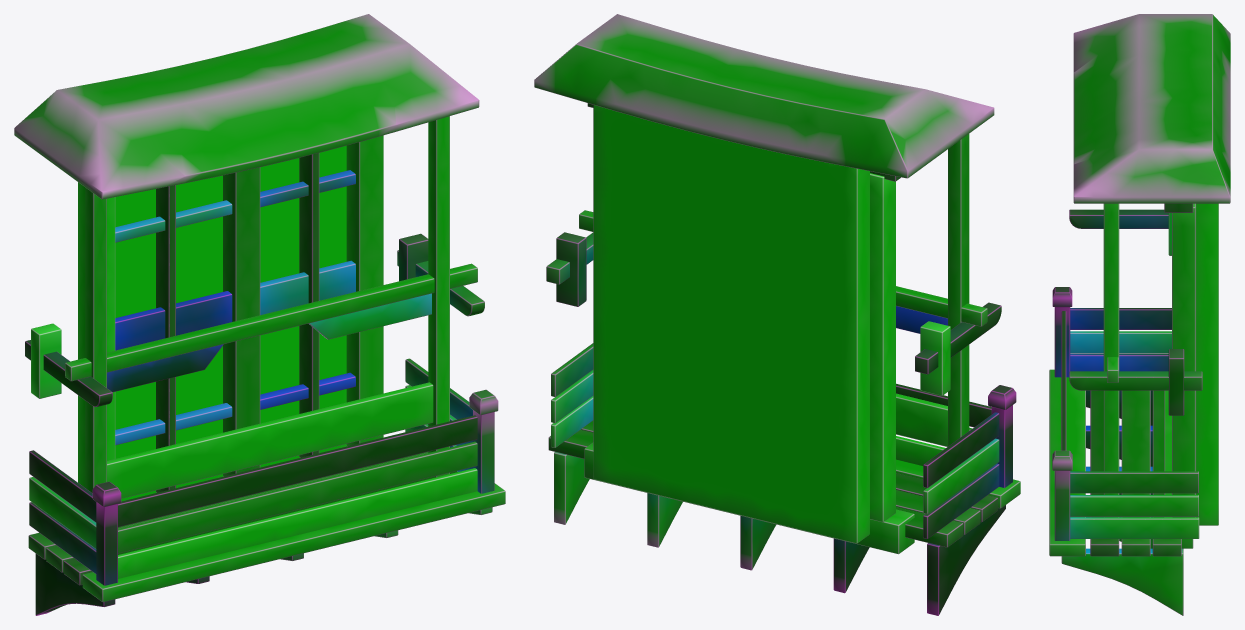
The model's file is window_400x300_11.fbx.
3 views of the same model, side by side, from view 1: azimuth 30°, elevation 25°; view 2: azimuth 150°, elevation 25°; view 3: azimuth 270°, elevation 25° (orthographic). The views are drawn at different scales.
Visible parts, largest first — view 1: window_400x300_11; view 2: window_400x300_11; view 3: window_400x300_11.
Part boxes in pixels (x1=…): window_400x300_11: x1=14, y1=14, x2=505, y2=615; window_400x300_11: x1=534, y1=14, x2=1020, y2=615; window_400x300_11: x1=1049, y1=14, x2=1230, y2=615.
Size of the model in its own units: 2.12 by 2.5 by 0.9126.
